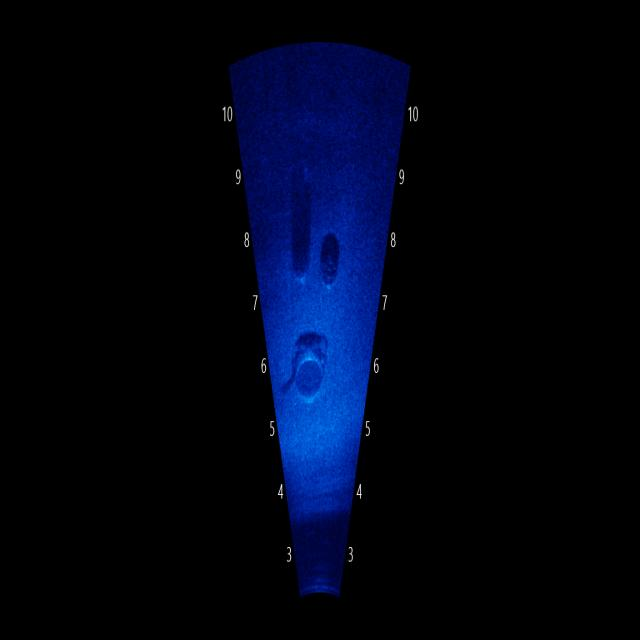circle: (286, 325, 340, 432), (315, 246, 346, 303), (286, 239, 312, 298)
